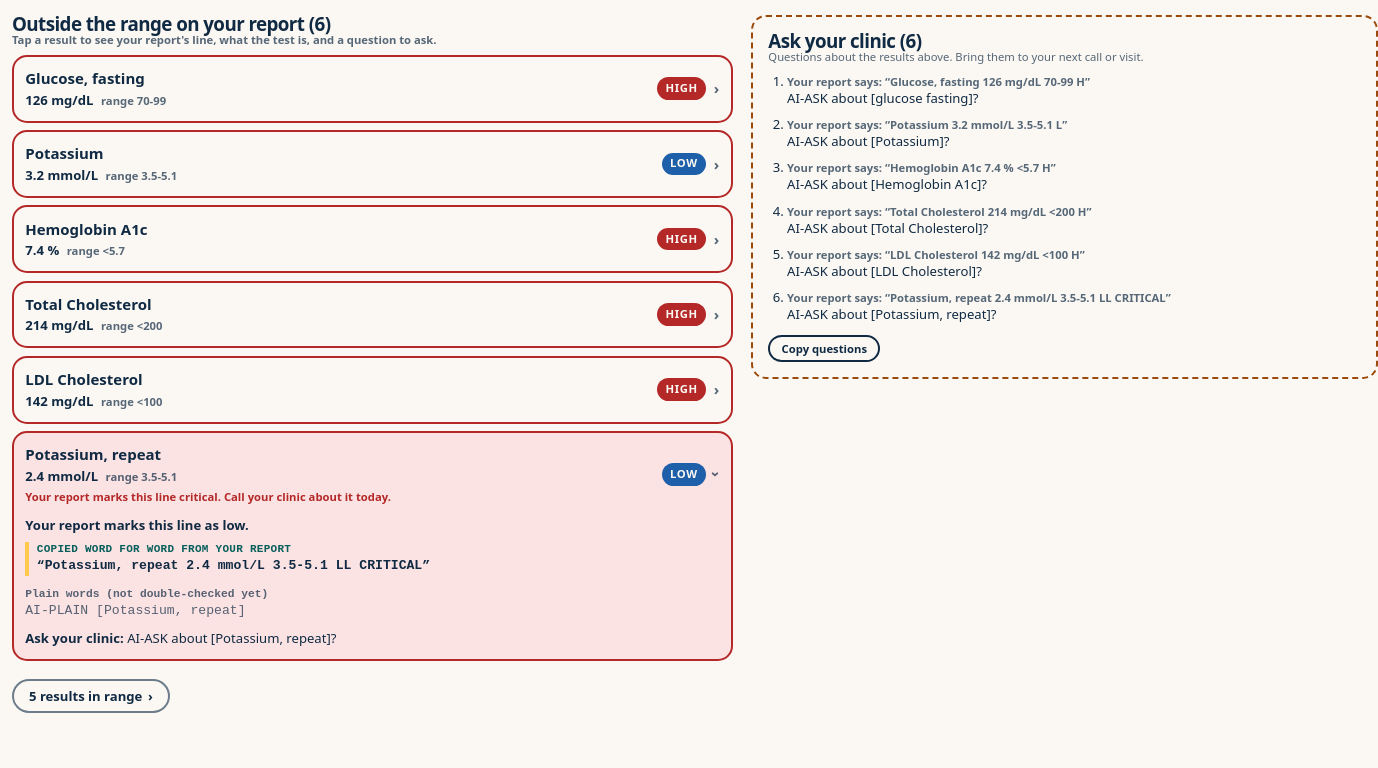
Scenario: Ask your clinic: one list with Copy › Copy says so when the clipboard is denied (Codex review)
The width and height of the screenshot is (1378, 768).
Click the button "Copy questions": x=824, y=348 top-left (768, 335), bottom-right (880, 362)
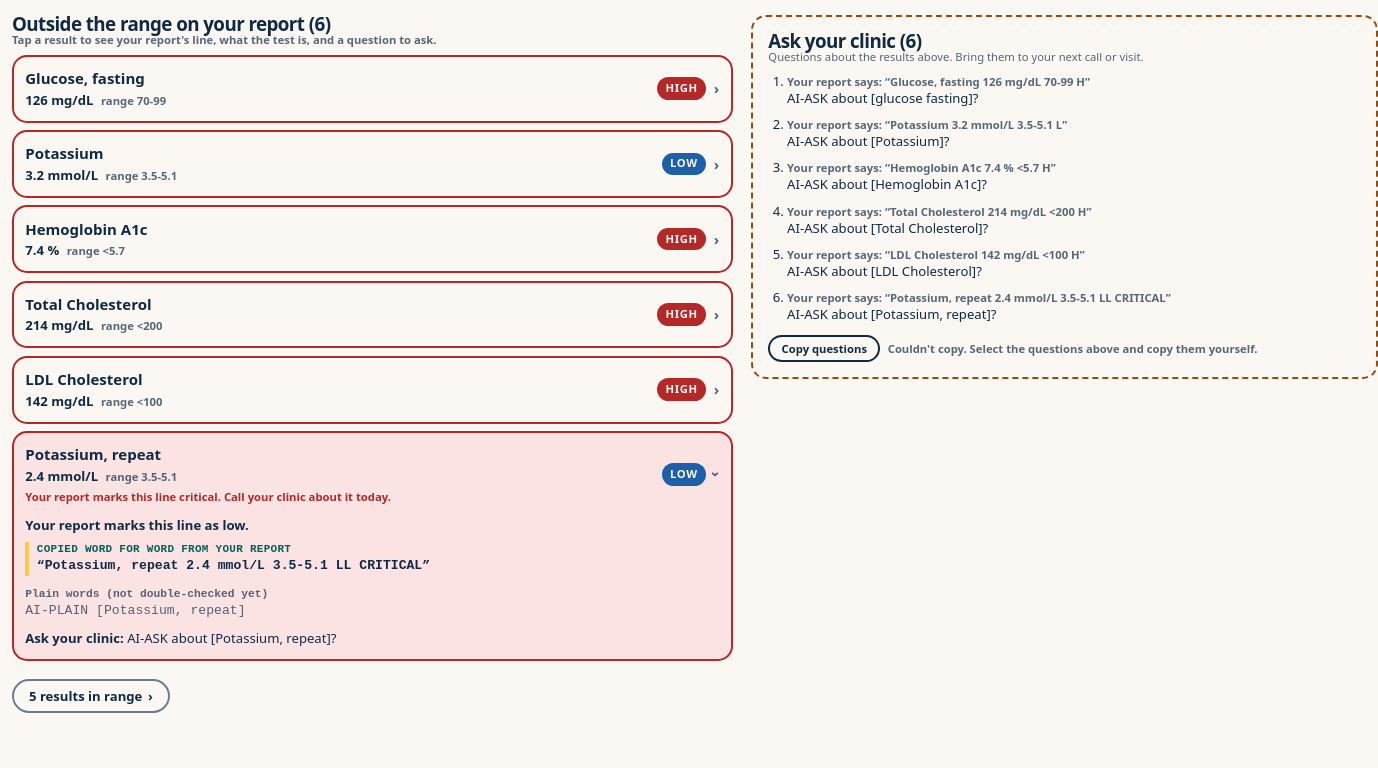
Expected: the message "Couldn't copy. Select the questions above and copy them yourself." is shown, top-left (888, 341), bottom-right (1258, 356)
